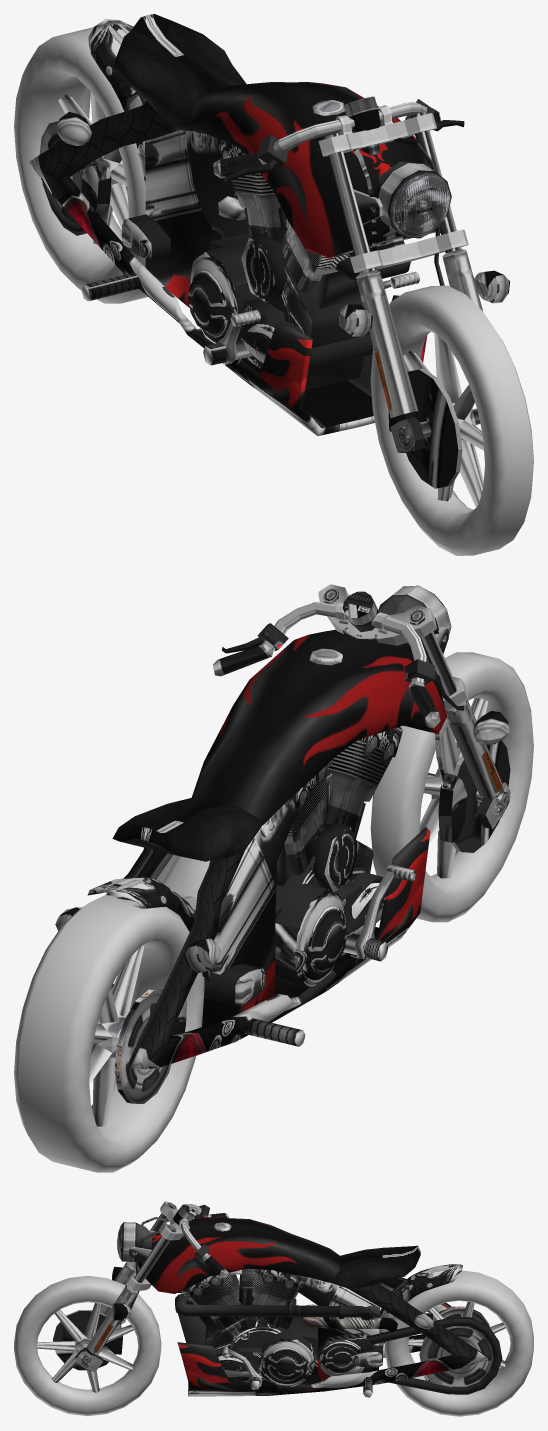
The model's file is motor_05_unit.FBX.
3 renders of one model, top to bottom at view 1: azimuth 30°, elevation 25°; view 2: azimuth 150°, elevation 25°; view 3: azimuth 270°, elevation 25°, orthographic. The views are drawn at different scales.
Parts seen in each view (by area): view 1: body, f_wheel, steer, b_wheel, f_wheel01, f_axle, b_wheel01; view 2: body, b_wheel, f_wheel, steer, b_wheel01, f_axle, f_wheel01; view 3: body, f_wheel, b_wheel, steer, f_wheel01, b_wheel01, f_axle.
Boxes of the visible parts, x1,y1,x2,y2 form: body: (29,14,435,435); f_wheel: (370,285,533,555); steer: (213,96,468,285); b_wheel: (14,27,147,303); f_wheel01: (398,333,483,507); f_axle: (339,249,509,453); b_wheel01: (39,92,128,244); body: (55,629,446,1069); b_wheel: (14,895,203,1172); f_wheel: (370,652,533,922); steer: (213,584,468,786); b_wheel01: (89,945,171,1126); f_axle: (438,700,510,842); f_wheel01: (419,698,510,878); body: (138,1217,502,1397); f_wheel: (14,1275,161,1416); b_wheel: (385,1270,533,1416); steer: (116,1201,228,1326); f_wheel01: (36,1303,133,1392); b_wheel01: (408,1302,506,1386); f_axle: (76,1262,137,1372).
Size of the model in its own units: 0.615 by 0.9273 by 2.11.
